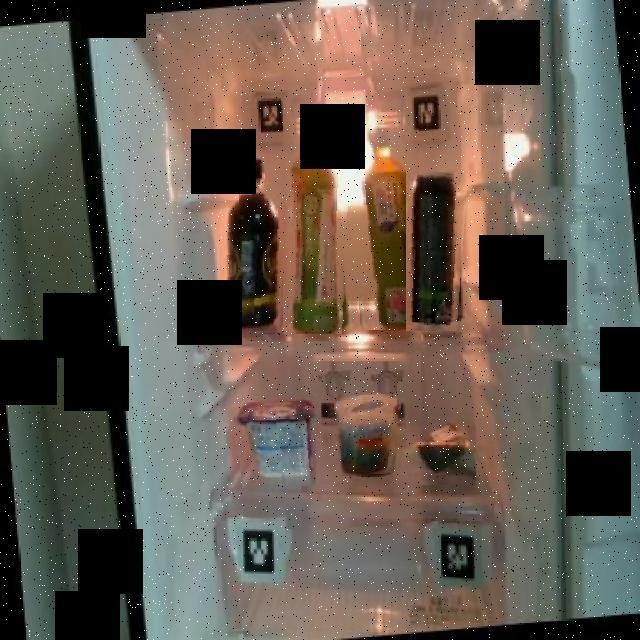coffee: (220, 154, 292, 337)
energy_drink: (406, 172, 468, 332)
pudding: (334, 392, 400, 477)
rice_ball: (407, 420, 476, 486)
tea_a: (347, 122, 419, 330)
tea_i: (283, 104, 352, 334)
yogurt: (232, 394, 316, 488)
